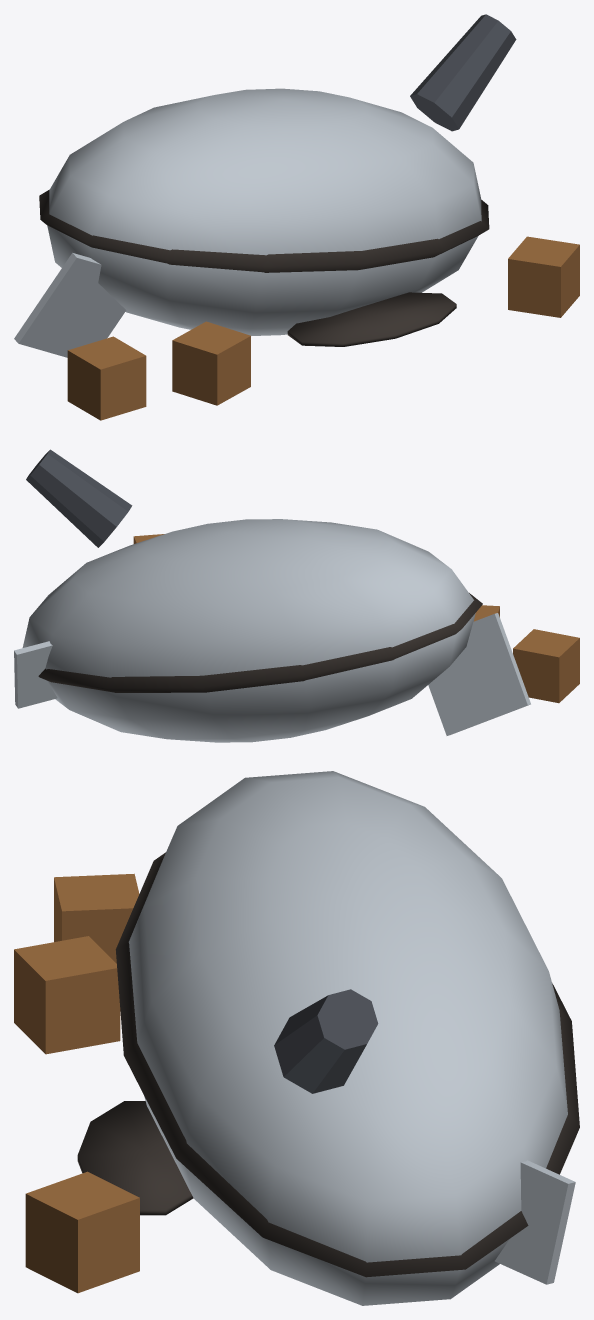
File: CrashWreck.fbx
The picture shows the model from 3 angles, top to bottom: view 1: azimuth 30°, elevation 25°; view 2: azimuth 150°, elevation 25°; view 3: azimuth 270°, elevation 25°; orthographic projection. The views are drawn at different scales.
Visible parts, largest first — view 1: CrashWreck_Body; view 2: CrashWreck_Body; view 3: CrashWreck_Body.
Boxes of the visible parts, x1=… form: CrashWreck_Body: x1=14, y1=14, x2=579, y2=420; CrashWreck_Body: x1=14, y1=449, x2=579, y2=742; CrashWreck_Body: x1=14, y1=771, x2=579, y2=1305.
Bounding box in the file's own units: 2.8 × 1.33 × 1.81.
